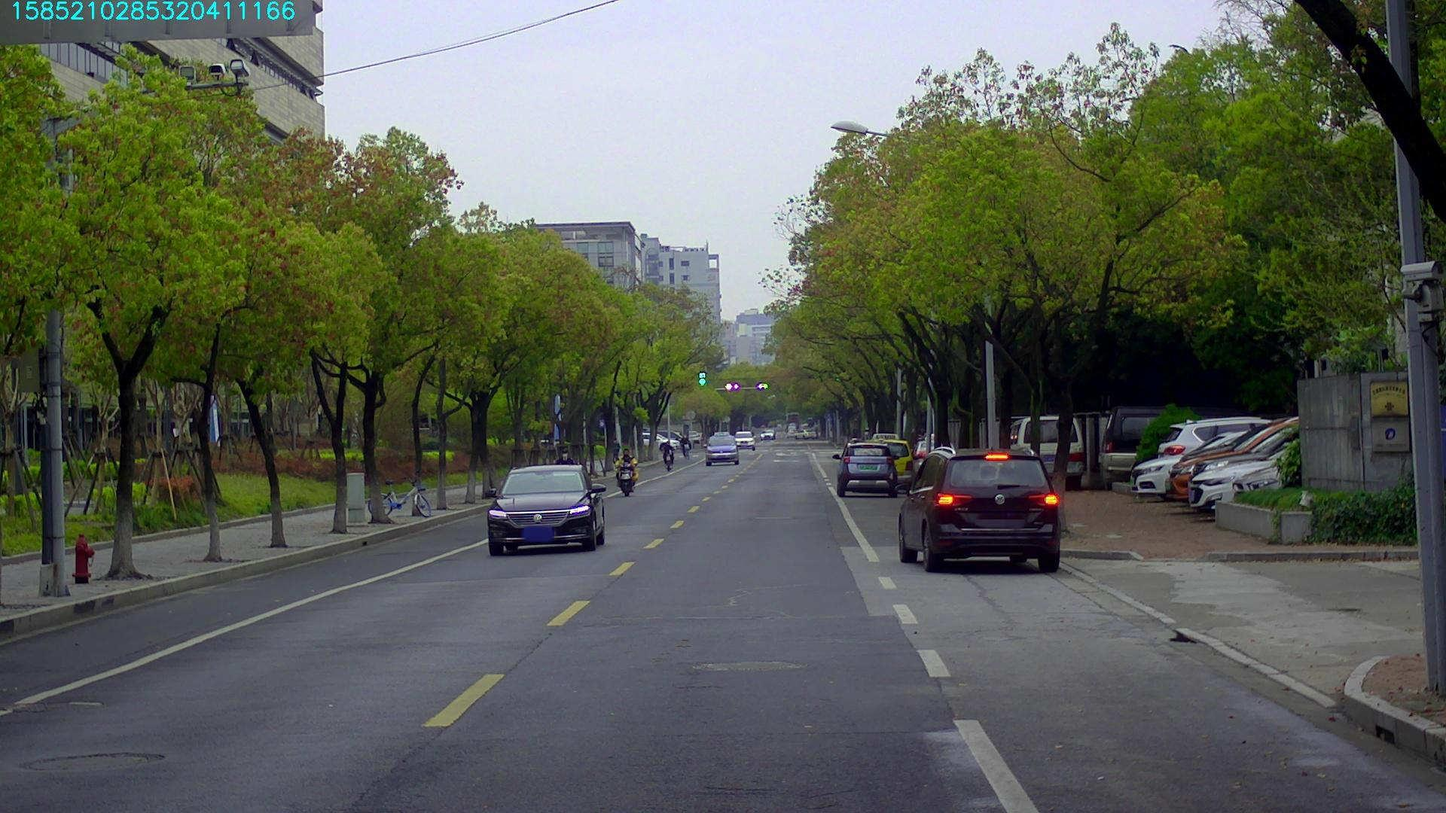green: (698, 370, 706, 385)
